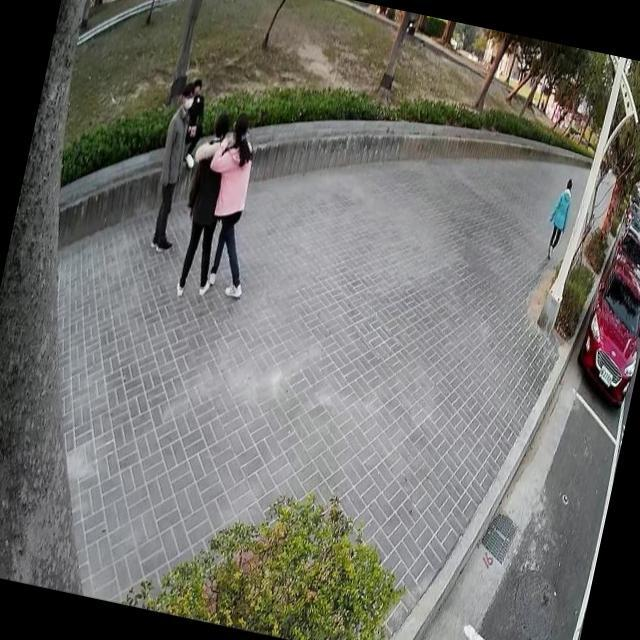person: (180, 101, 281, 305), (162, 102, 248, 303), (140, 74, 208, 256), (172, 71, 215, 172), (538, 168, 580, 265)
